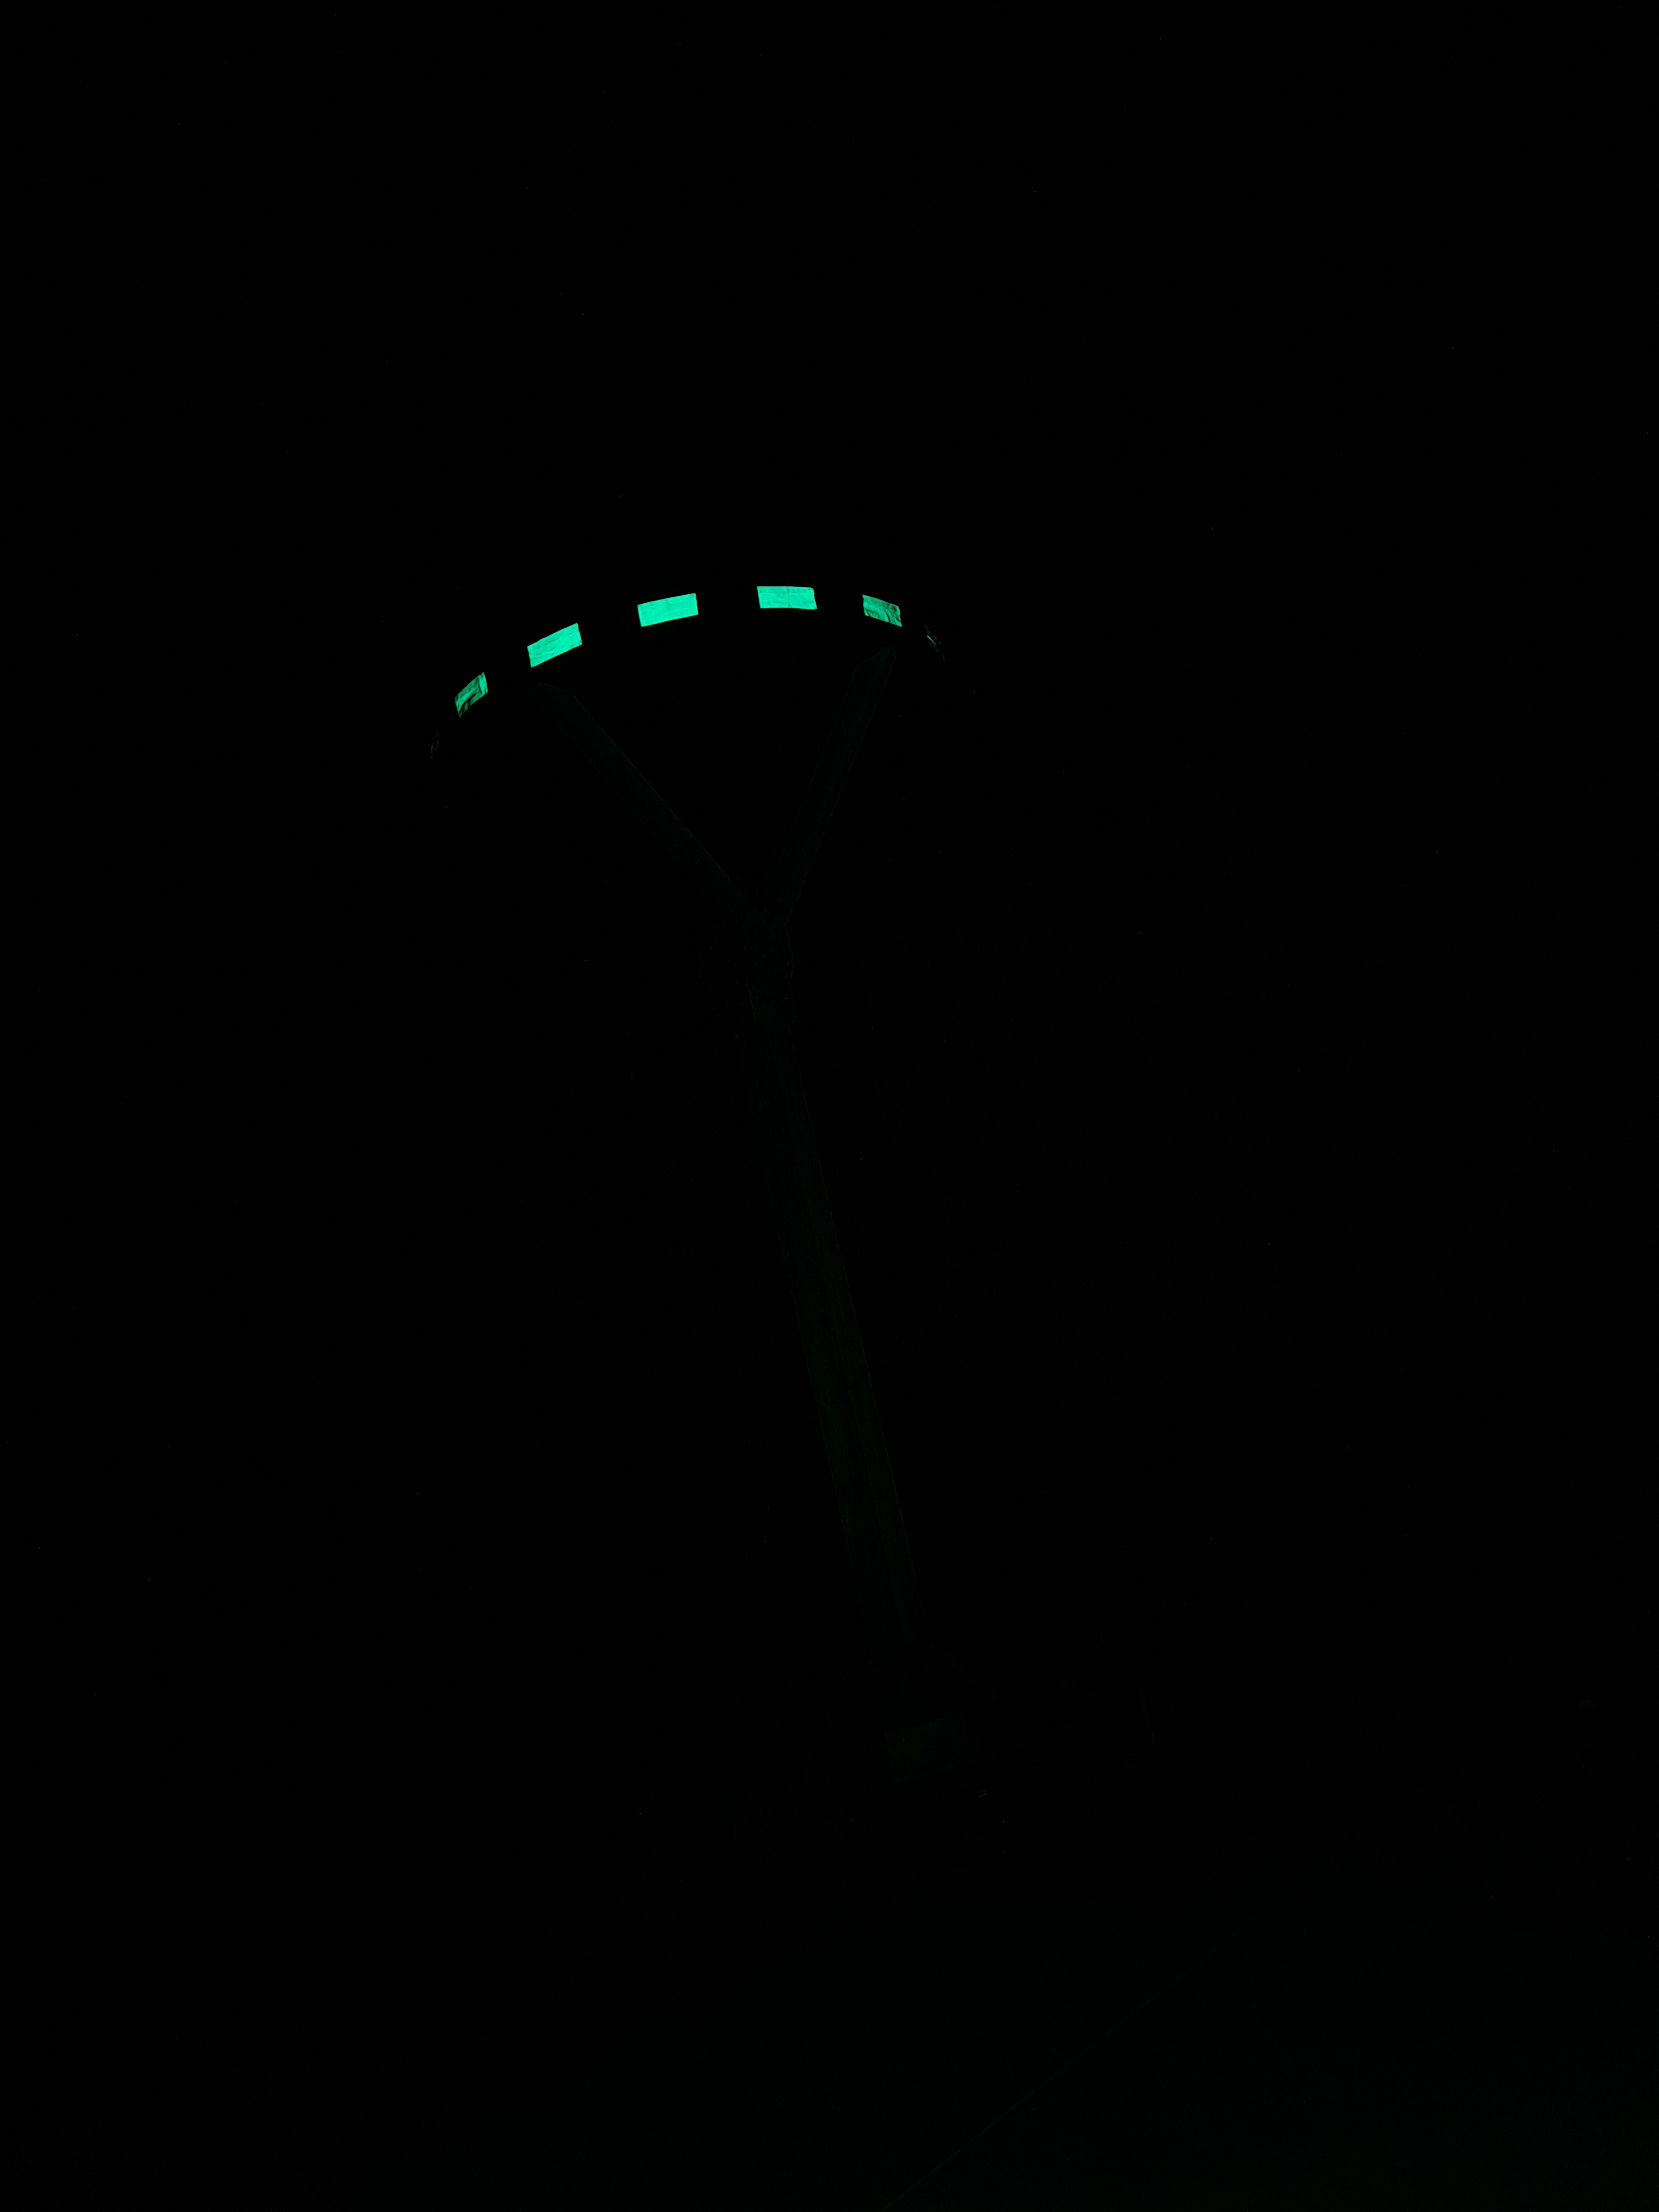hoop: (453, 583, 908, 718)
